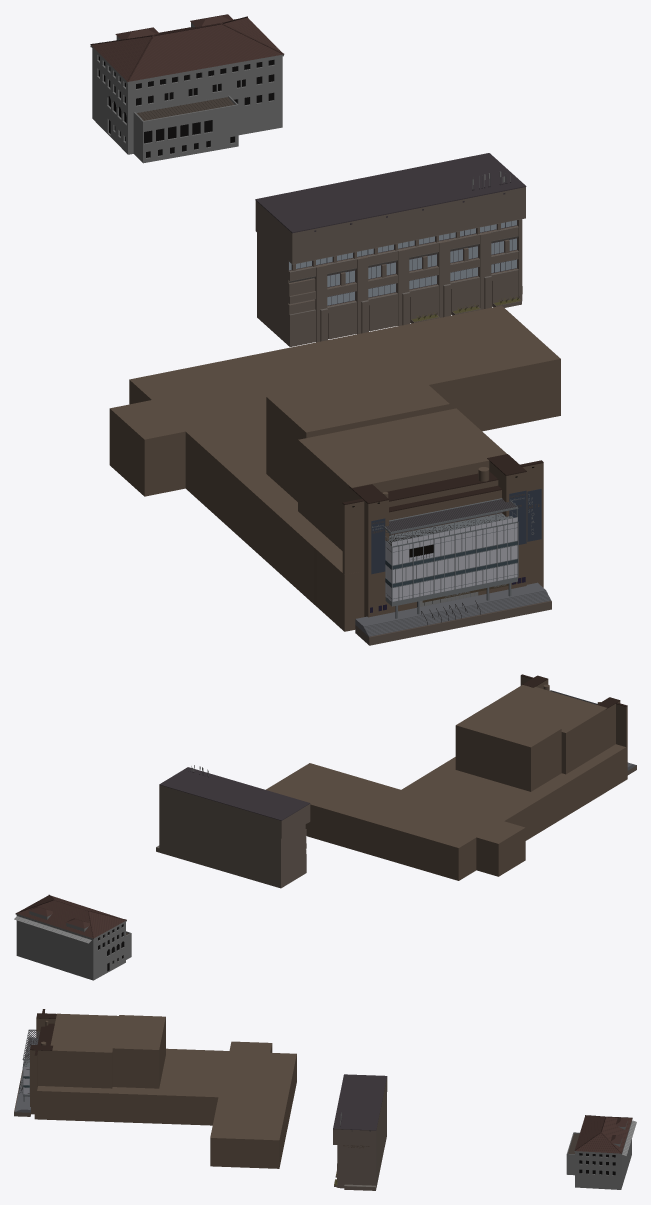
The picture shows the model from 3 angles, top to bottom: view 1: azimuth 30°, elevation 25°; view 2: azimuth 150°, elevation 25°; view 3: azimuth 270°, elevation 25°; orthographic projection. The views are drawn at different scales.
Visible parts, largest first — view 1: opaque, glass; view 2: opaque, glass; view 3: opaque, glass.
Boxes of the visible parts, x1=… form: opaque: x1=90, y1=14, x2=560, y2=645; glass: x1=98, y1=56, x2=517, y2=606; opaque: x1=14, y1=674, x2=636, y2=980; glass: x1=14, y1=916, x2=123, y2=971; opaque: x1=14, y1=1009, x2=636, y2=1190; glass: x1=23, y1=1066, x2=636, y2=1175.
Bounding box in the file's own units: 128 × 33.2 × 279.
2 materials, 2 textured.
